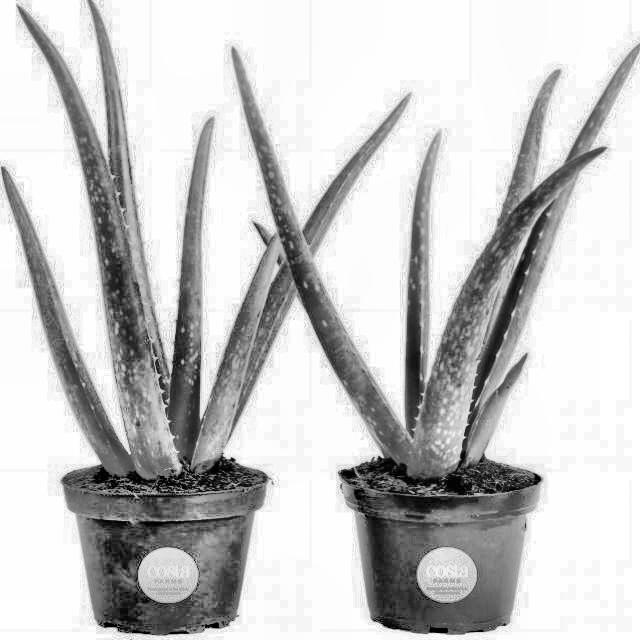plants: (13, 46, 312, 587), (282, 61, 589, 539)
